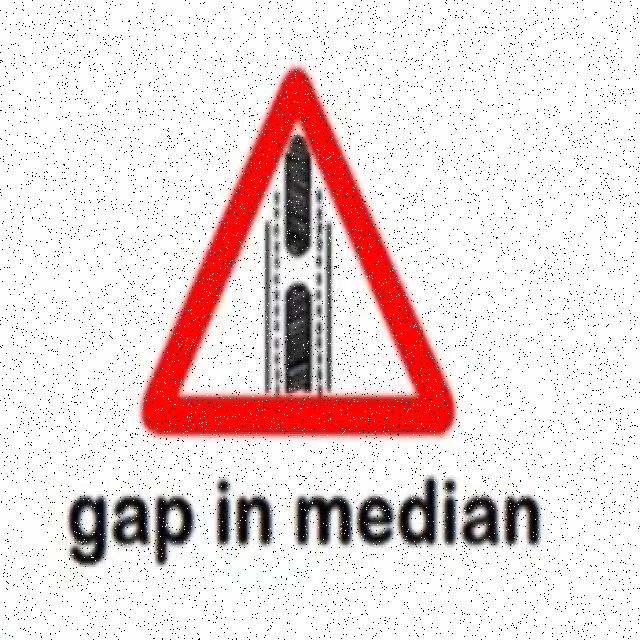gap_in_median: (142, 68, 459, 430)
